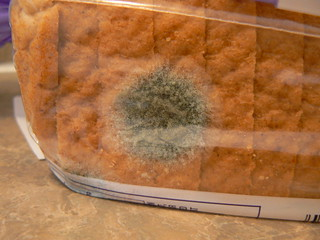mold_bread: (107, 65, 214, 159)
